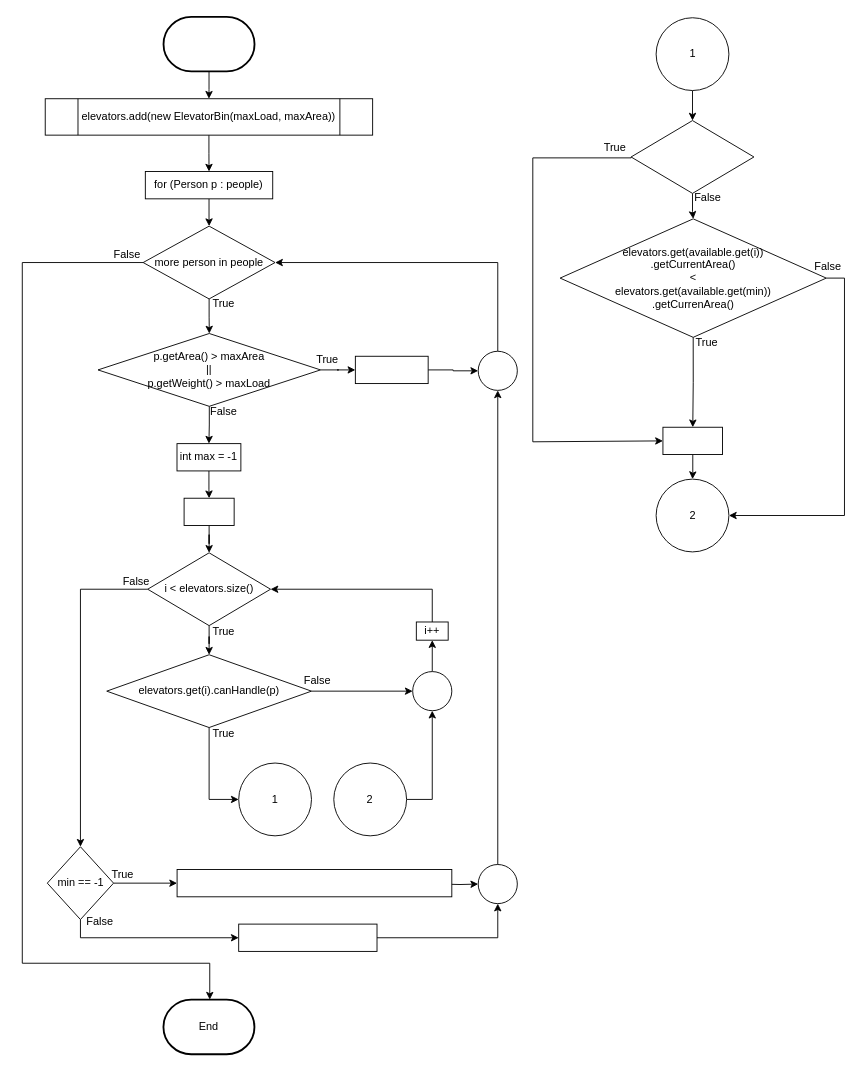
Some shapes in this 868 by 1070 pixel diagram are drawn without their labels. The shapes that lost their labels are listed below. From the top down, each one's box as (x1, y1, x2, y2) in pixels, then its label:
(162, 15, 255, 72): Start
(630, 120, 754, 193): max == -1
(354, 355, 428, 384): cannotFit++
(662, 426, 723, 455): max = i
(183, 497, 234, 526): int i = 0
(176, 869, 452, 897): elevators.add(new ElevatorBin(maxLoad, maxArea, p))
(238, 923, 377, 951): elevators.get(max).push(p)
